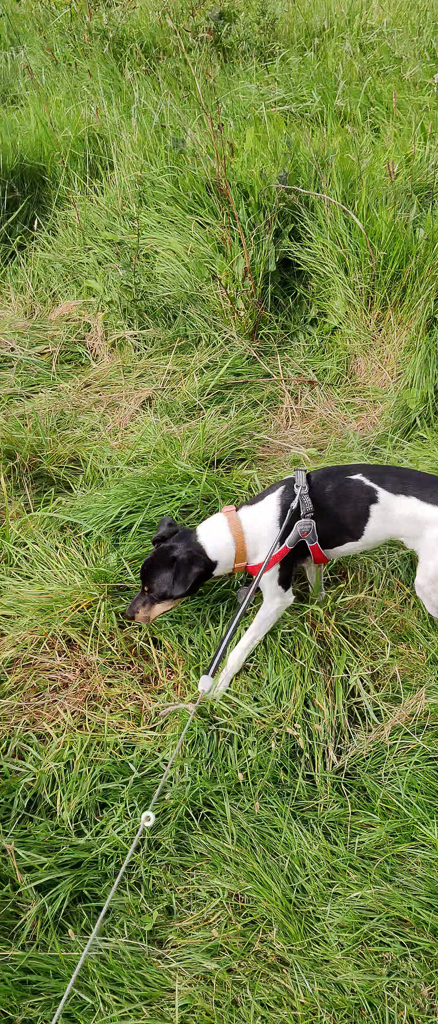Dog: (107, 444, 438, 715)
